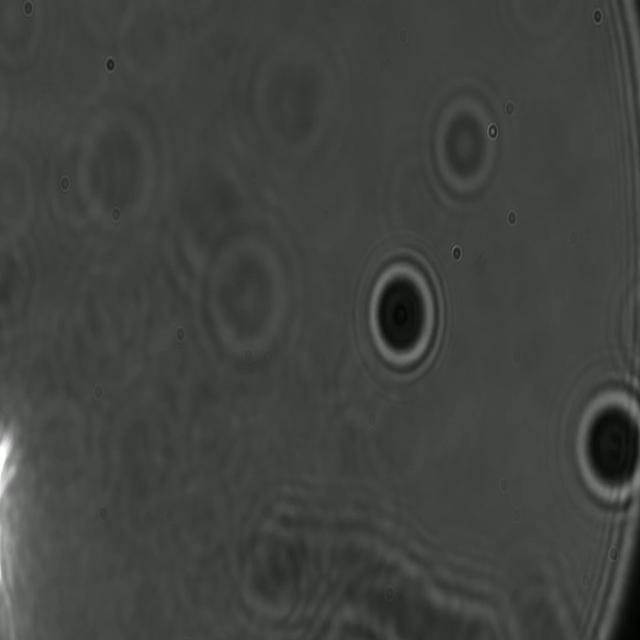DCELL: (363, 250, 445, 383)
